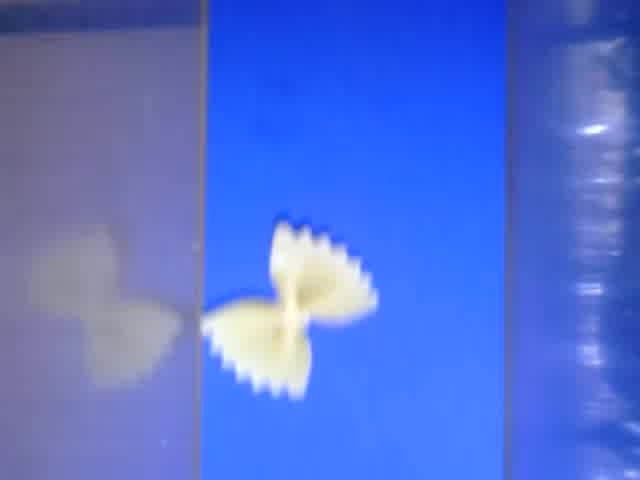farfalle: (202, 219, 381, 399)
